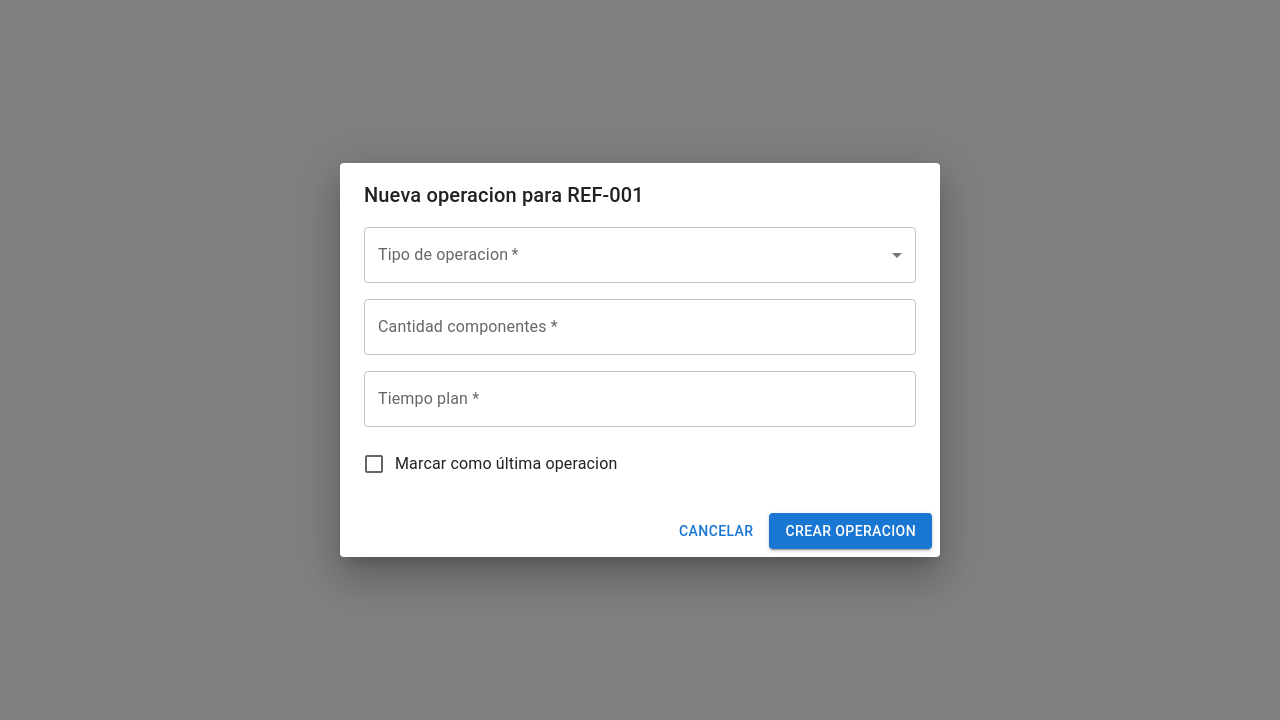
Componente: AdminCreateOperacionDialog › Validación: error si tiempoPlan contiene cero
In the field labelled "Tiempo plan *": [640, 399] box x1=364 y1=371 x2=916 y2=427, type "0"
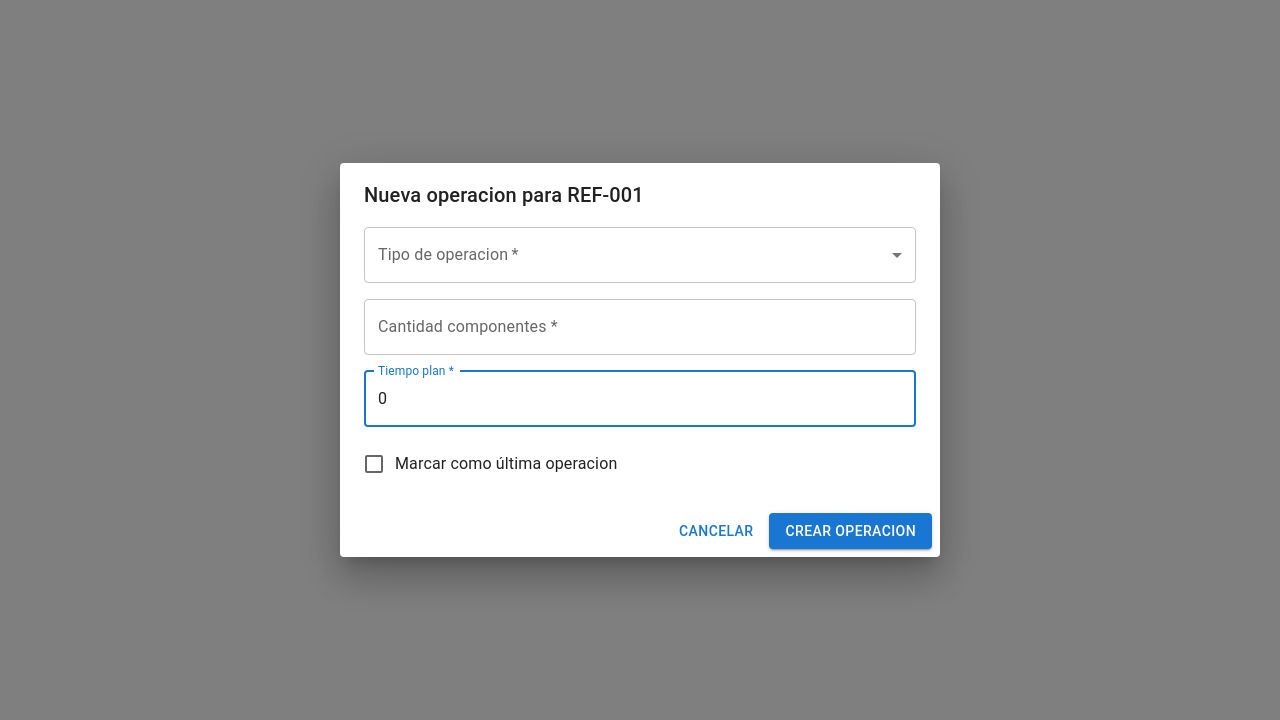
Press Tab
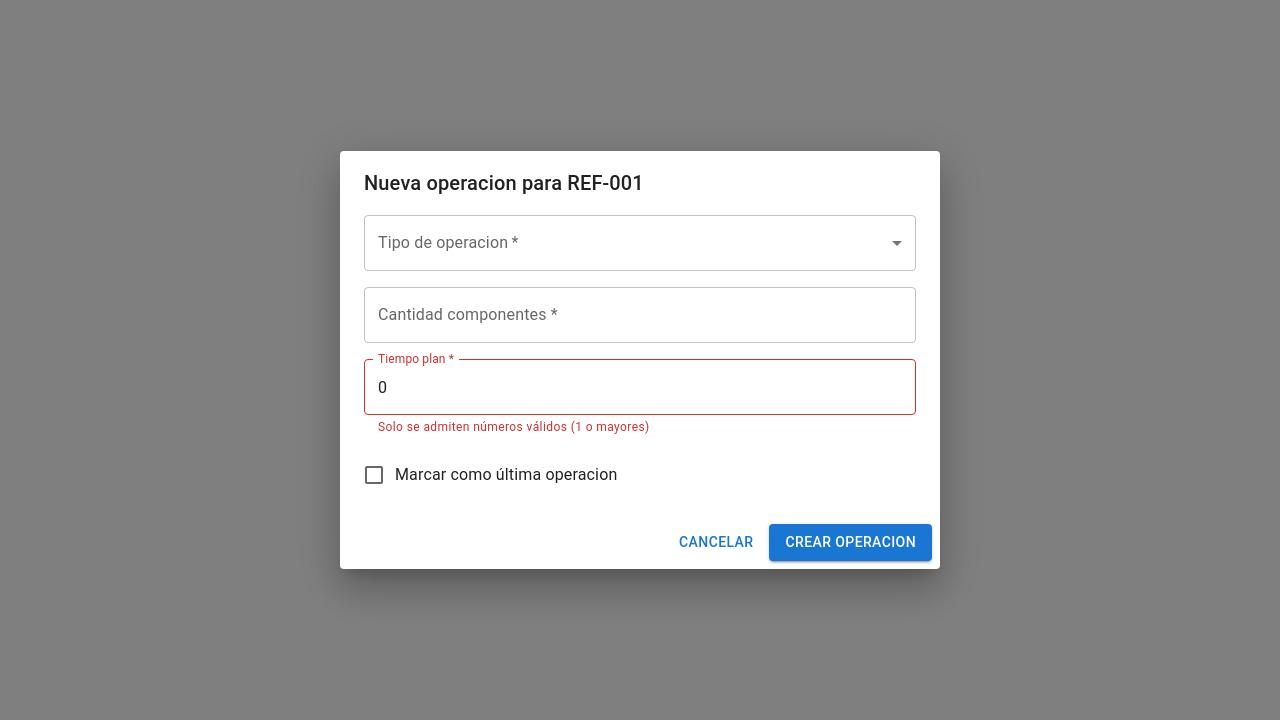
Check: the text "Solo se admiten números válidos (1 o mayores)" is shown, box x1=378 y1=420 x2=650 y2=434
